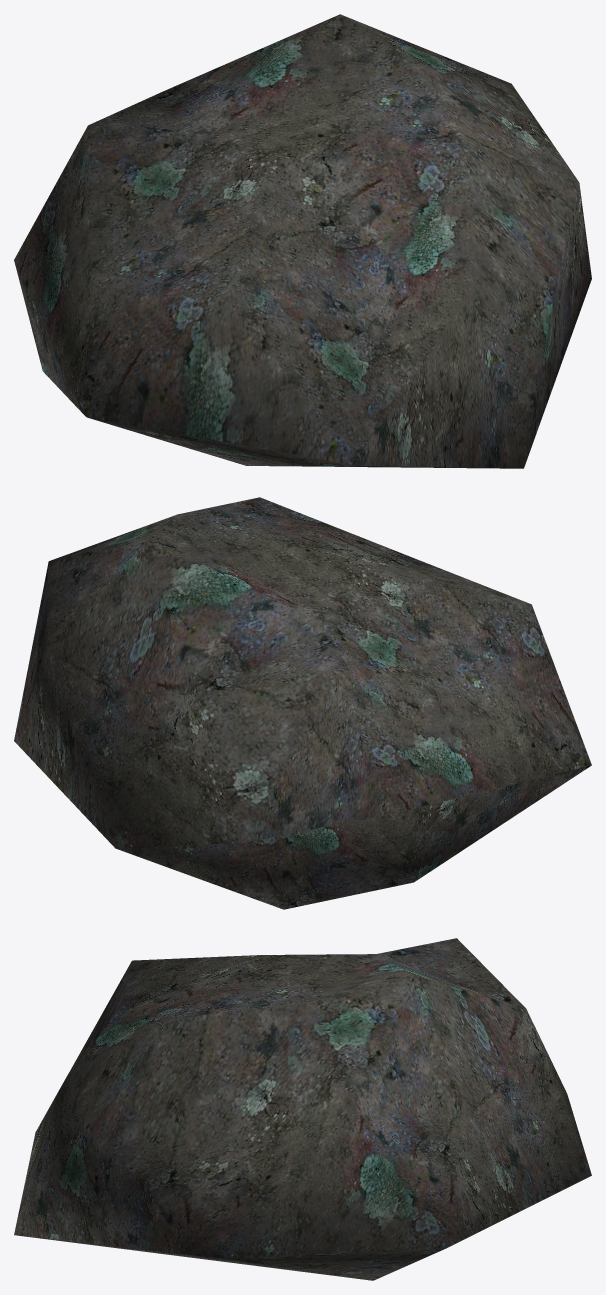
File: rock_forestriverrock_sm_l0.fbx
The picture shows the model from 3 angles, top to bottom: view 1: azimuth 30°, elevation 25°; view 2: azimuth 150°, elevation 25°; view 3: azimuth 270°, elevation 25°; orthographic projection. The views are drawn at different scales.
Parts seen in each view (by area): view 1: mesh_node; view 2: mesh_node; view 3: mesh_node.
Part boxes in pixels (<box>): mesh_node: <box>14,14,591,468</box>; mesh_node: <box>14,497,591,909</box>; mesh_node: <box>14,938,591,1280</box>.
Size of the model in its own units: 0.598 by 0.3783 by 0.6171.
Materials: 1 (1 with a texture image).
